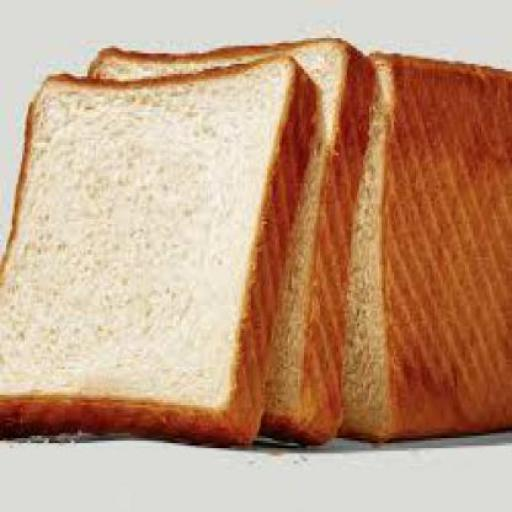biodegradable: (75, 30, 375, 444), (0, 51, 313, 444), (334, 48, 510, 441)
